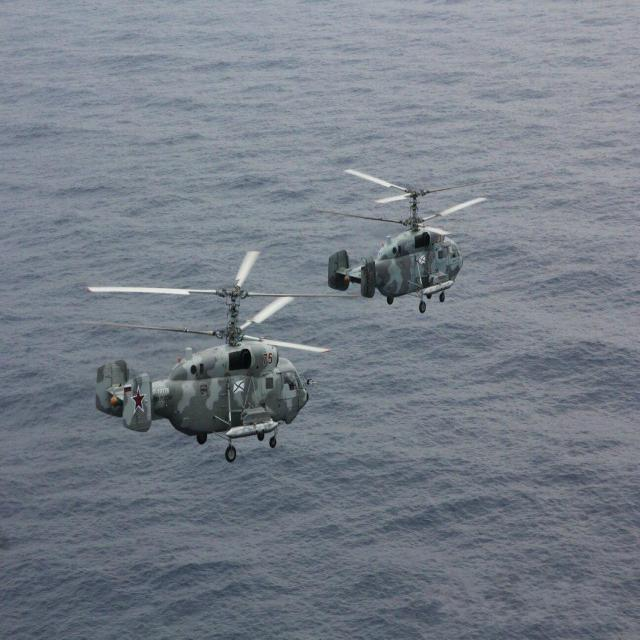MIL_HELO: (60, 240, 336, 460), (297, 159, 496, 333)
